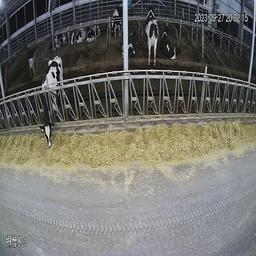cow: (42, 55, 63, 147), (143, 7, 158, 69), (161, 23, 179, 59), (110, 3, 123, 39), (128, 30, 139, 60), (86, 22, 100, 45), (70, 26, 85, 45), (53, 31, 66, 51)
